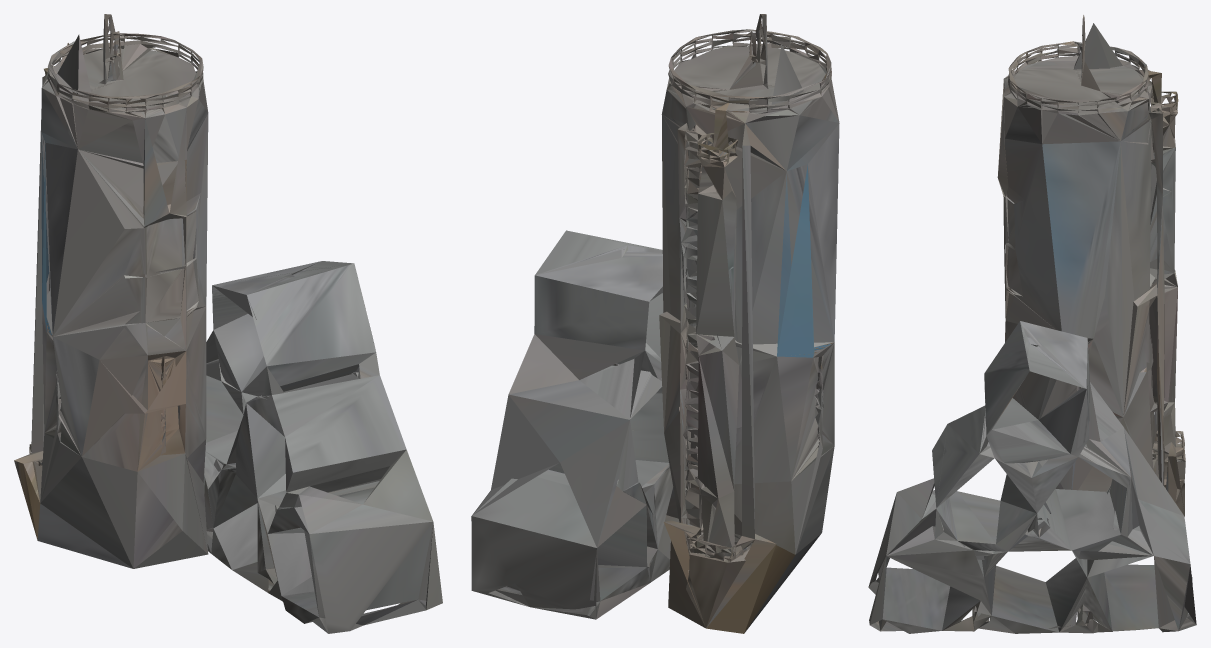
3 views of the same model, side by side, from view 1: azimuth 30°, elevation 25°; view 2: azimuth 150°, elevation 25°; view 3: azimuth 270°, elevation 25° (orthographic). The views are drawn at different scales.
Visible parts, largest first — view 1: k12; view 2: k12; view 3: k12.
Part boxes in pixels (x1,y1,x2,y2): k12: (14,14,442,633); k12: (471,14,839,633); k12: (868,15,1196,633).
Bounding box in the file's own units: 8.89 × 17.06 × 9.71.
Materials: 1 (1 with a texture image).
